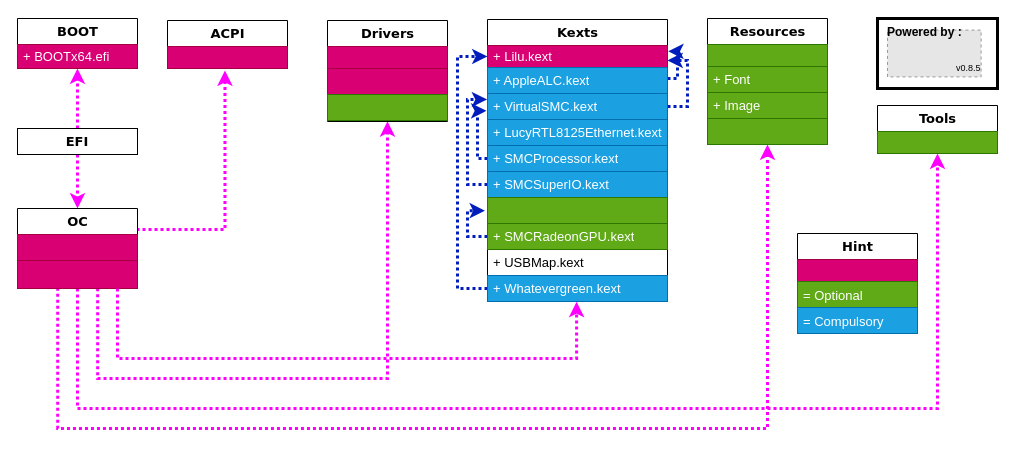
Image size: 1016x455. Some labels were removed from this diagram. Grey dashed boxes stand in for pictures. The shapes that lost their labels are listed below. From the top down, each one's centre as x and y in pixels, then its label:
At (227,57): "+ SSDT-Patch.aml".
At (387,57): "+ HfsPlus.efi".
At (767,55): "+ Audio".
At (387,81): "+ OpenRuntime.efi".
At (387,107): "+ OpenCanopy.efi".
At (767,131): "+ Label".
At (937,142): "+ CleanNvram.efi".
At (577,210): "+ RadeonSensor.kext".
At (77,247): "+ OpenCore.efi".
At (77,274): "+ config.plist".
At (857,270): "= Main".
